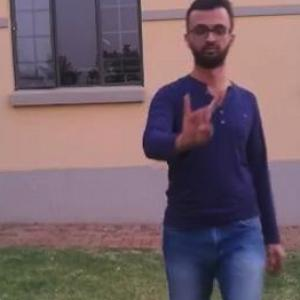takeoff-hand: (168, 83, 229, 151)
